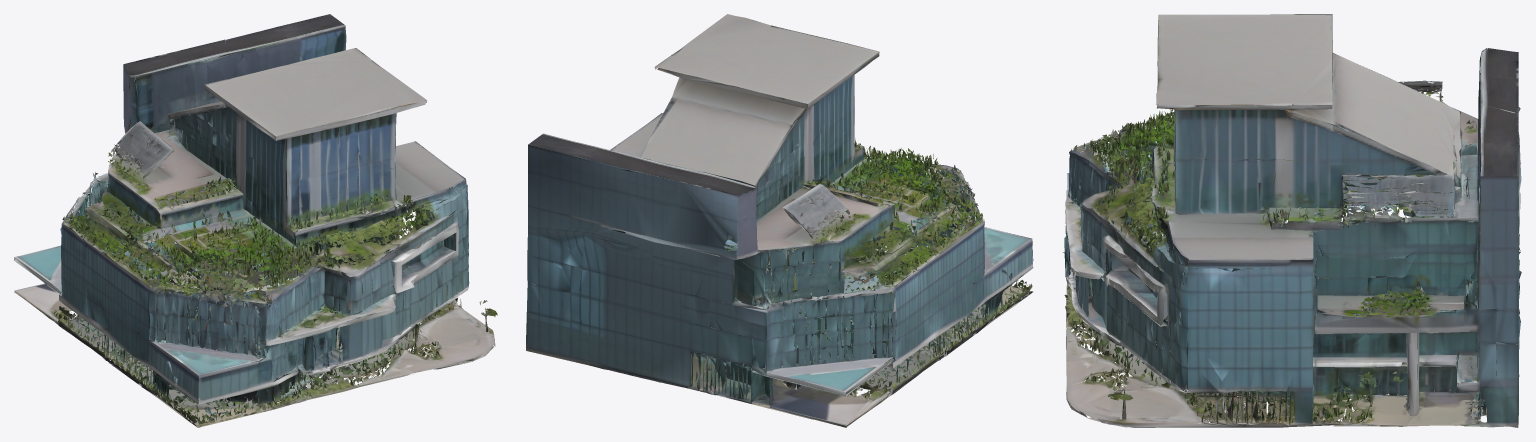
The model's file is big_bld1.fbx.
3 renders of one model, left to right at view 1: azimuth 30°, elevation 25°; view 2: azimuth 150°, elevation 25°; view 3: azimuth 270°, elevation 25°, orthographic. The views are drawn at different scales.
Visible parts, largest first — view 1: big_bld1; view 2: big_bld1; view 3: big_bld1.
Part boxes in pixels (bbox=[...]): big_bld1: bbox=[14, 14, 497, 427]; big_bld1: bbox=[526, 14, 1033, 427]; big_bld1: bbox=[1063, 14, 1521, 427].
Size of the model in its own units: 2.02 by 1.42 by 2.01.
Materials: 1 (1 with a texture image).
